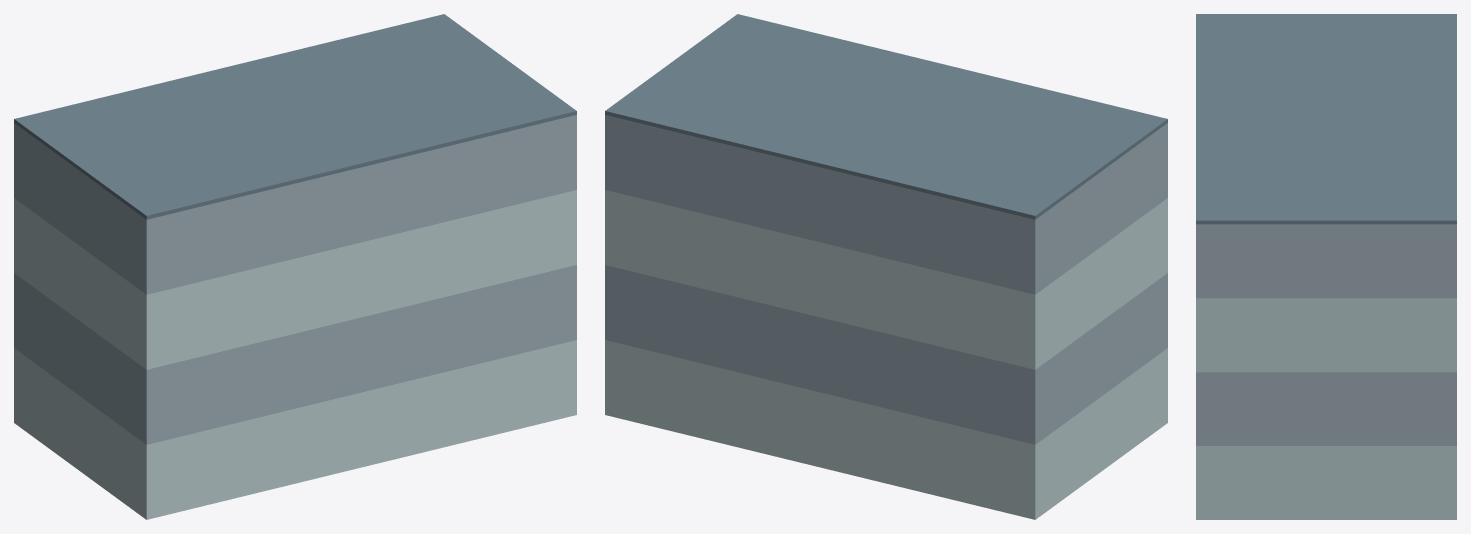
File: Lv3Ground2.fbx
3 views of the same model, side by side, from view 1: azimuth 30°, elevation 25°; view 2: azimuth 150°, elevation 25°; view 3: azimuth 270°, elevation 25° (orthographic).
Parts seen in each view (by area): view 1: Lv3Floor2; view 2: Lv3Floor2; view 3: Lv3Floor2.
Part boxes in pixels (left/top/right/bottom): Lv3Floor2: left=14, top=14, right=576, bottom=519; Lv3Floor2: left=605, top=14, right=1167, bottom=519; Lv3Floor2: left=1196, top=14, right=1456, bottom=519.
Bounding box in the file's own units: 6000 × 4051 × 3200.
